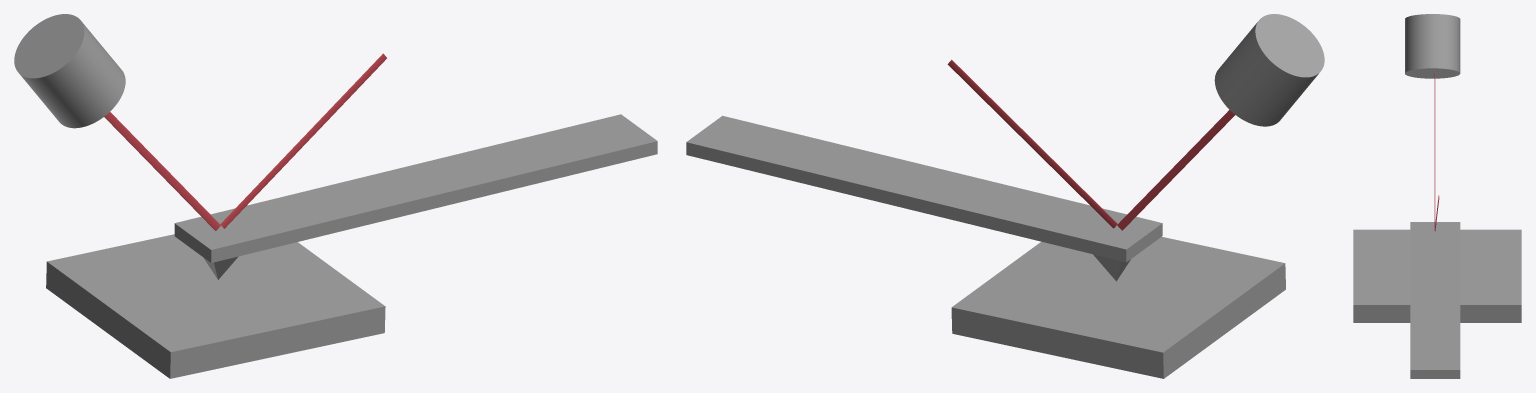
File: Probe.glb
3 renders of one model, left to right at view 1: azimuth 30°, elevation 25°; view 2: azimuth 150°, elevation 25°; view 3: azimuth 270°, elevation 25°, orthographic. The views are drawn at different scales.
Size of the model in its own units: 0.1055 by 0.0541 by 0.0365.
